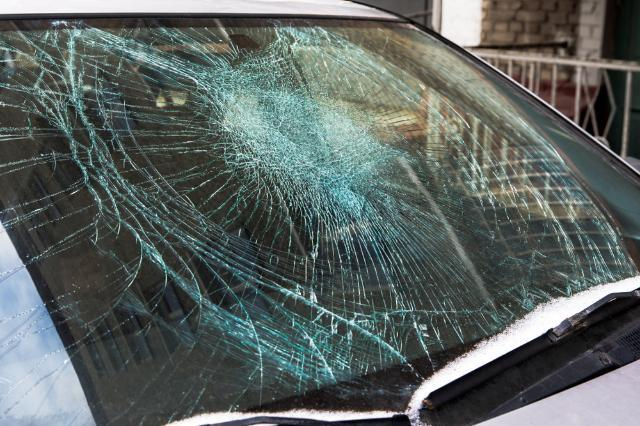glass shatter: (0, 15, 640, 426)
